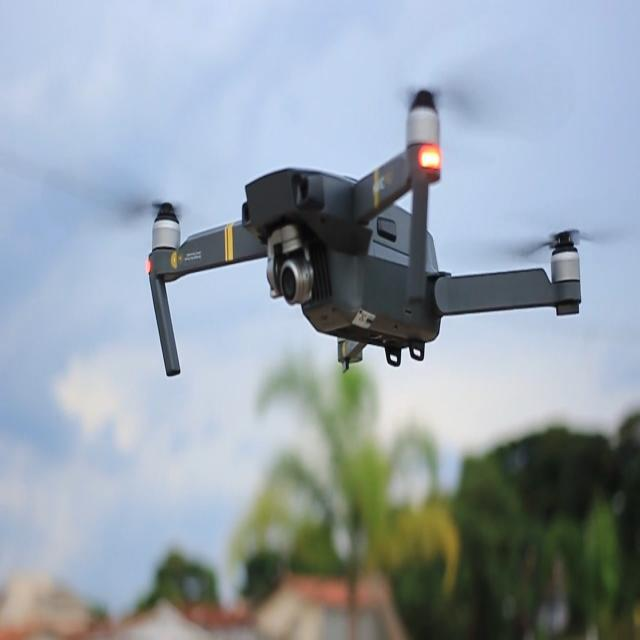Drone: (144, 92, 580, 380)
